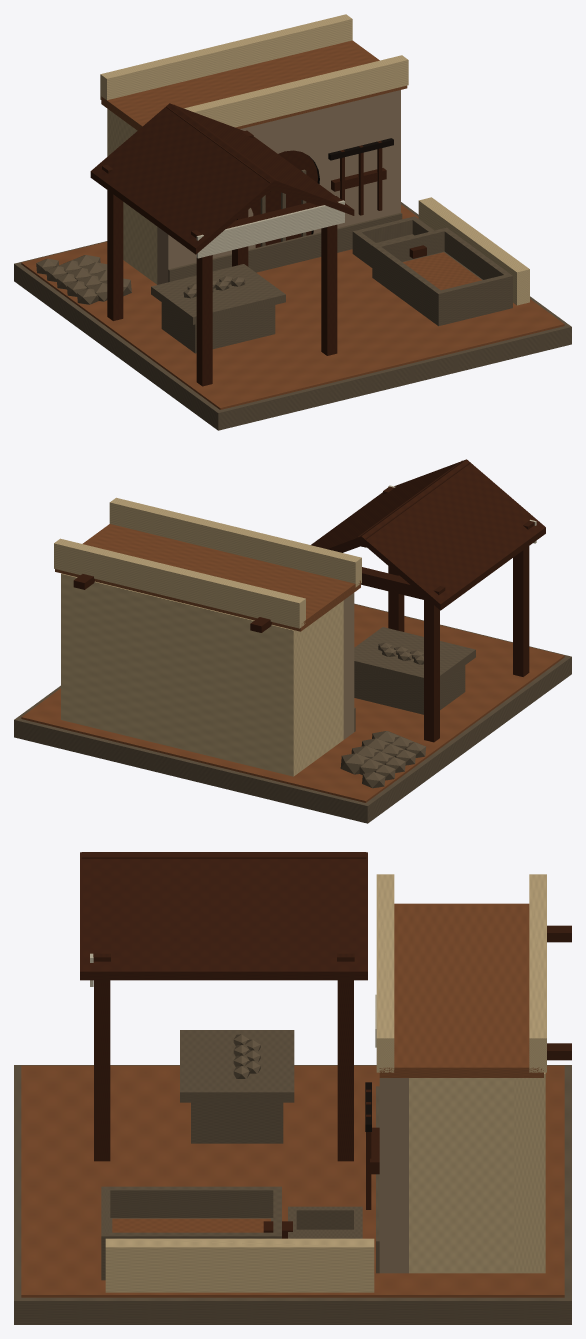
File: Berber_Mining_Age3.fbx
3 views of the same model, one above another, from view 1: azimuth 30°, elevation 25°; view 2: azimuth 150°, elevation 25°; view 3: azimuth 270°, elevation 25° (orthographic). The views are drawn at different scales.
Visible parts, largest first — view 1: courtyard_floor, timber_shelter_roof, courtyard_foundation, store_front, washing_trough, store_roof, store_parapet.001, store_parapet, sorting_slab, timber_shelter_roof.001, store_plinth, owner_valance (+11 smaller); view 2: store_backwall, courtyard_floor, timber_shelter_roof, courtyard_foundation, store_roof, store_parapet.001, store_parapet, store_sidewall, sorting_slab, timber_shelter_roof.001, sorting_plinth, shelter_post.001 (+4 smaller); view 3: courtyard_floor, timber_shelter_roof.001, store_roof, store_sidewall.001, courtyard_foundation, washbank_earth_retainer, washing_trough, sorting_slab, store_backwall, store_front, sorting_plinth, store_parapet (+6 smaller).
Part boxes in pixels (x1,y1,x2,y2): courtyard_floor: (21,204,564,409); timber_shelter_roof: (90,103,274,254); courtyard_foundation: (14,202,571,430); store_front: (157,90,400,284); washing_trough: (372,227,512,326); store_roof: (101,40,407,130); store_parapet.001: (100,14,352,100); store_parapet: (184,55,408,127); sorting_slab: (151,264,285,324); timber_shelter_roof.001: (170,103,354,215); store_plinth: (168,212,402,282); owner_valance: (196,200,344,258); store_backwall: (61,573,305,776); courtyard_floor: (21,604,564,802); timber_shelter_roof: (361,459,545,610); courtyard_foundation: (14,603,571,823); store_roof: (55,524,360,631); store_parapet.001: (54,538,305,628); store_parapet: (109,497,361,587); store_sidewall: (305,600,343,767); sorting_slab: (354,627,475,685); timber_shelter_roof.001: (311,459,465,551); sorting_plinth: (354,665,465,714); shelter_post.001: (424,600,439,742); courtyard_floor: (21,1065,564,1297); timber_shelter_roof.001: (80,852,367,980); store_roof: (379,903,543,1077); store_sidewall.001: (409,1078,513,1273); courtyard_foundation: (14,1065,571,1324); washbank_earth_retainer: (105,1238,374,1292); washing_trough: (101,1186,281,1280); sorting_slab: (180,1030,294,1102); store_backwall: (513,1072,545,1273); store_front: (379,1078,408,1273); sorting_plinth: (191,1102,283,1143); store_parapet: (376,874,394,1072).
Bounding box in the file's own units: 380 × 219 × 380.
Materials: 6 (6 with a texture image).
